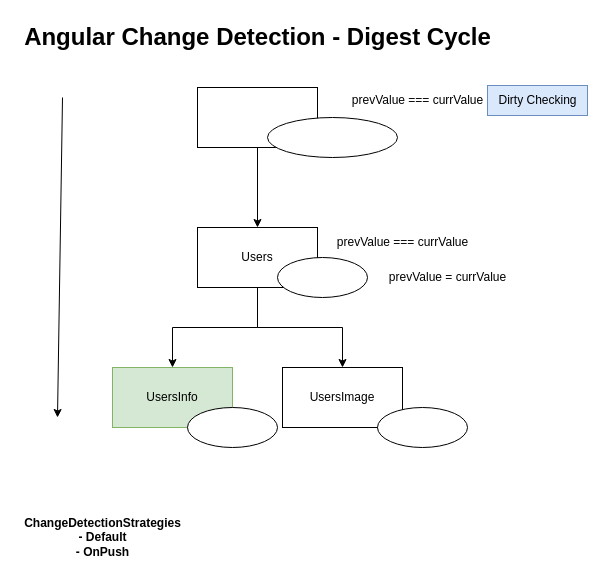
Some shapes in this 605 by 584 pixel diagram are drawn without their labels. Each missing label, with the centre of its shape:
"App" goes at pixel 257 117.
"AppChangeDetection" goes at pixel 332 137.
